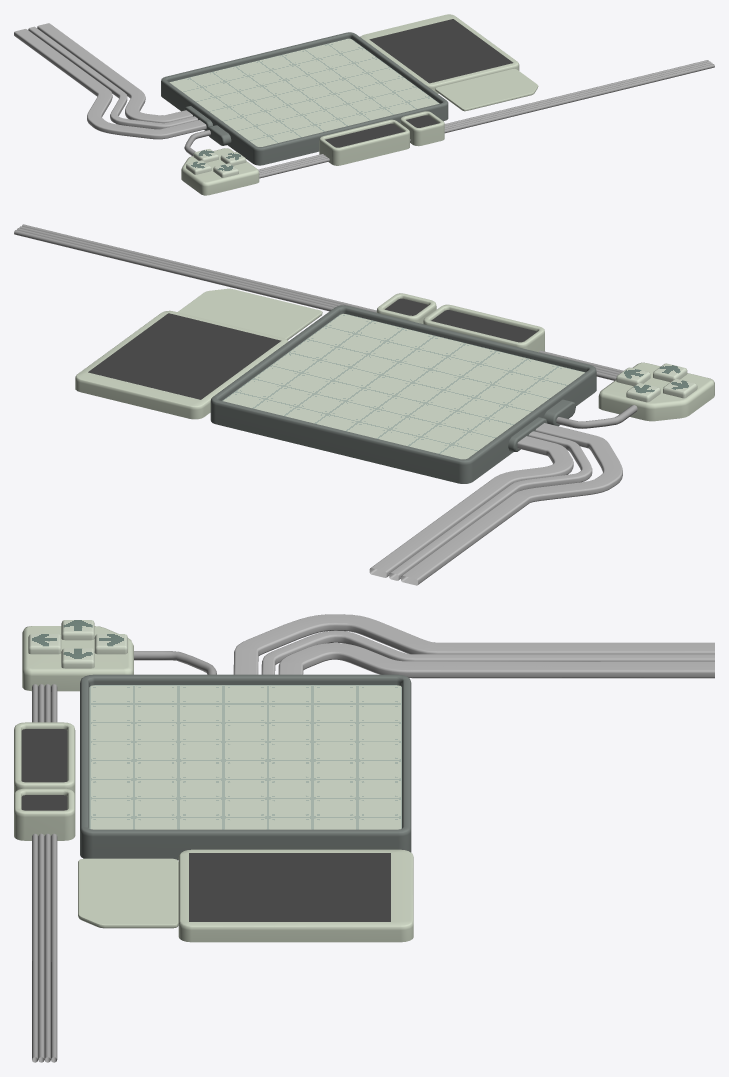
The model's file is meshLevelTemplate_8x6.fbx.
3 renders of one model, top to bottom at view 1: azimuth 30°, elevation 25°; view 2: azimuth 150°, elevation 25°; view 3: azimuth 270°, elevation 25°, orthographic. The views are drawn at different scales.
Parts seen in each view (by area): view 1: meshTiles, meshWire, meshTilesBorder, meshPhoneScreen, meshControllerWireB, meshPhoneCard, meshComboBody, meshPhoneBody, meshControllerBody, meshMixBody, meshComboScreen, meshControllerPlug; view 2: meshTiles, meshTilesBorder, meshWire, meshPhoneScreen, meshControllerWireB, meshPhoneBody, meshPhoneCard, meshControllerBody, meshComboBody, meshComboScreen, meshMixBody, meshControllerWireA; view 3: meshTiles, meshWire, meshTilesBorder, meshPhoneScreen, meshPhoneBody, meshPhoneCard, meshControllerWireB, meshControllerBody, meshComboScreen, meshMixBody, meshComboBody, meshControllerWireA (+5 smaller).
Boxes of the visible parts, x1=… form: meshTiles: x1=169, y1=38, x2=439, y2=146; meshWire: x1=14, y1=23, x2=206, y2=139; meshTilesBorder: x1=161, y1=32, x2=448, y2=165; meshPhoneScreen: x1=369, y1=19, x2=513, y2=83; meshControllerWireB: x1=258, y1=60, x2=714, y2=178; meshPhoneCard: x1=435, y1=68, x2=538, y2=111; meshComboBody: x1=319, y1=119, x2=409, y2=165; meshPhoneBody: x1=360, y1=14, x2=519, y2=93; meshControllerBody: x1=181, y1=148, x2=259, y2=195; meshMixBody: x1=400, y1=111, x2=444, y2=146; meshComboScreen: x1=325, y1=123, x2=403, y2=147; meshControllerPlug: x1=207, y1=125, x2=231, y2=145; meshTiles: x1=222, y1=313, x2=585, y2=459; meshTilesBorder: x1=210, y1=305, x2=596, y2=483; meshWire: x1=369, y1=423, x2=622, y2=585; meshPhoneScreen: x1=88, y1=313, x2=281, y2=399; meshControllerWireB: x1=14, y1=224, x2=623, y2=380; meshPhoneBody: x1=75, y1=310, x2=288, y2=419; meshPhoneCard: x1=177, y1=288, x2=322, y2=340; meshControllerBody: x1=598, y1=362, x2=714, y2=421; meshComboBody: x1=423, y1=304, x2=544, y2=352; meshComboScreen: x1=431, y1=310, x2=537, y2=342; meshMixBody: x1=376, y1=293, x2=436, y2=323; meshControllerWireA: x1=556, y1=405, x2=637, y2=428; meshTiles: x1=89, y1=685, x2=401, y2=829; meshWire: x1=233, y1=614, x2=714, y2=678; meshTilesBorder: x1=80, y1=674, x2=411, y2=860; meshPhoneScreen: x1=189, y1=853, x2=390, y2=921; meshPhoneBody: x1=178, y1=849, x2=413, y2=942; meshPhoneCard: x1=78, y1=858, x2=178, y2=928; meshControllerWireB: x1=32, y1=684, x2=57, y2=1062; meshControllerBody: x1=22, y1=626, x2=133, y2=691; meshComboScreen: x1=21, y1=729, x2=67, y2=782; meshMixBody: x1=14, y1=788, x2=75, y2=840; meshComboBody: x1=14, y1=722, x2=75, y2=795; meshControllerWireA: x1=134, y1=651, x2=216, y2=674.
Size of what is drawn, in the model's own units: 23.02 by 0.6888 by 15.68.
